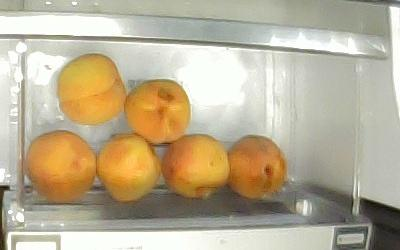peach: (24, 128, 96, 202), (55, 51, 126, 125), (94, 131, 161, 202), (122, 76, 191, 144), (159, 132, 231, 197), (224, 133, 287, 198)
